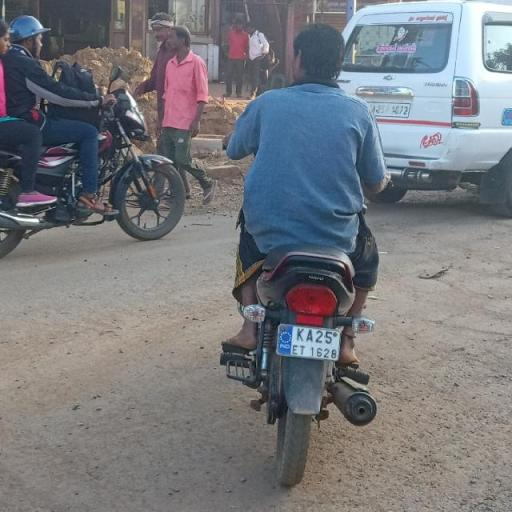bike: (200, 18, 419, 492)
numberplate: (276, 323, 348, 368)
withouthelmet: (295, 24, 345, 82)
